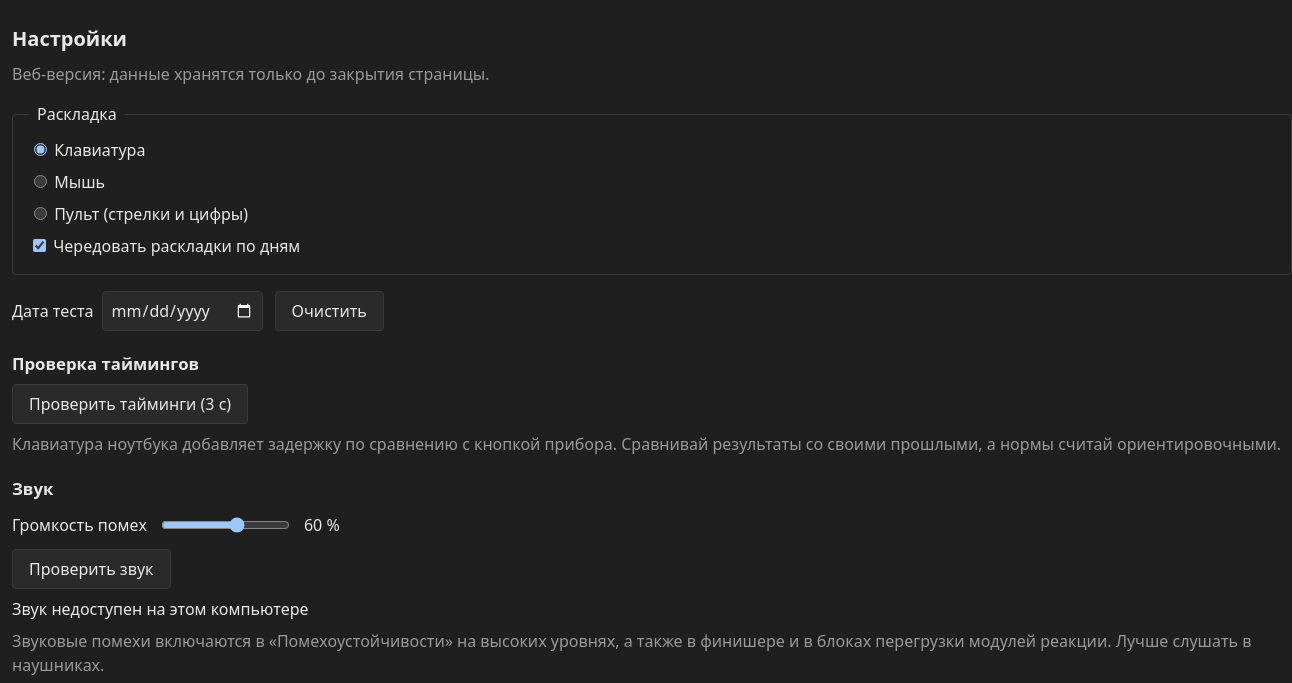
Test: Settings timing self-check › measures frames, shows the numbers and saves the result
This screenshot has width=1292, height=683.
Click the button "Проверить тайминги (3 с)" at (130, 404), box [12,384,248,424]
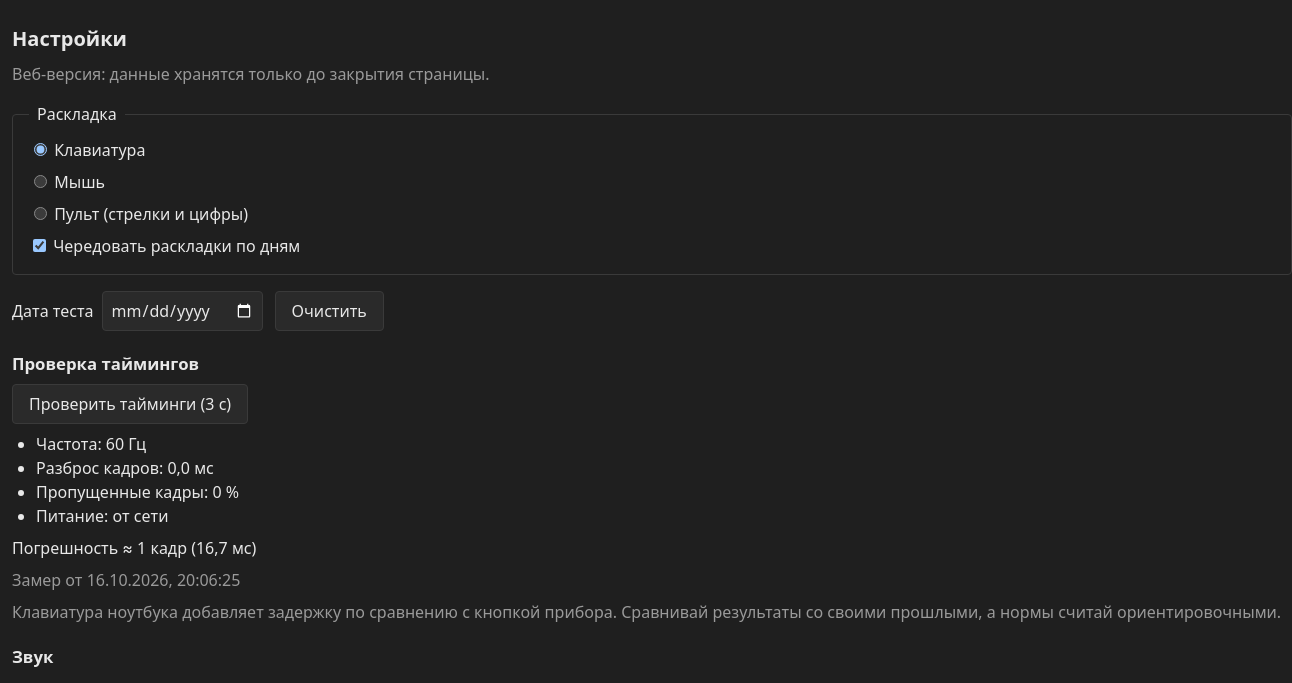
Expected: the list item "Частота: 60 Гц" is shown, [36,433,146,455]
Expected: the list item "Разброс кадров: 0,0 мс" is shown, [36,457,214,479]
Expected: the list item "Пропущенные кадры: 0 %" is shown, [36,481,239,503]
